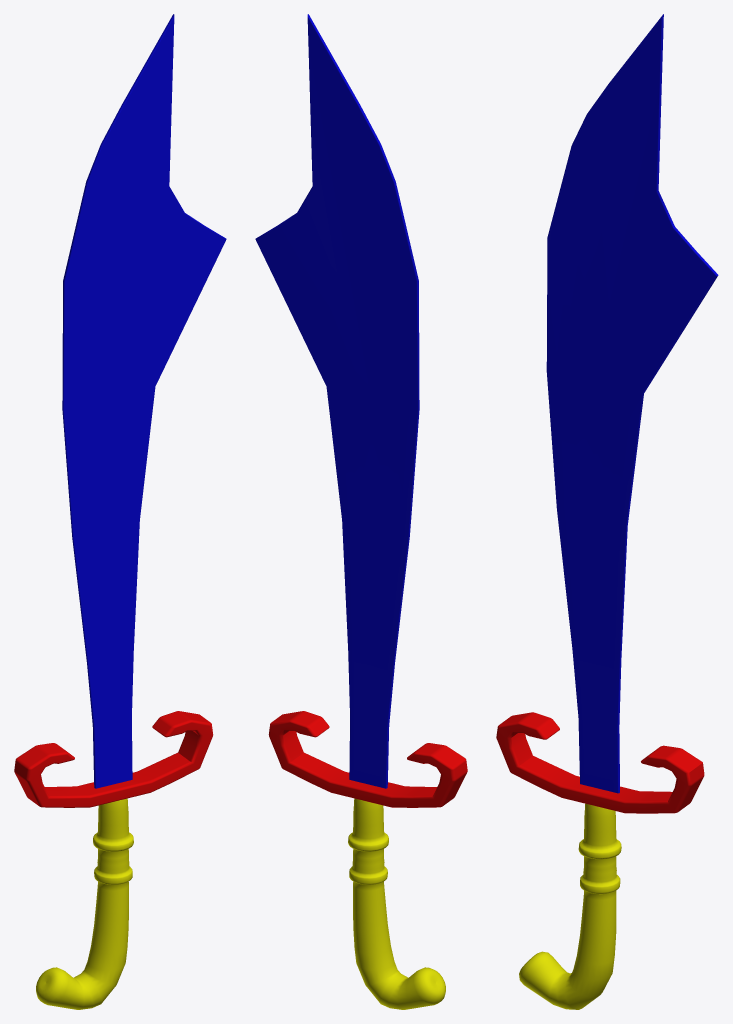
File: Pirate_Sword_Variation.fbx
The picture shows the model from 3 angles, left to right: view 1: azimuth 30°, elevation 25°; view 2: azimuth 150°, elevation 25°; view 3: azimuth 330°, elevation 25°; orthographic projection. The views are drawn at different scales.
Visible parts, largest first — view 1: Pirate_Sword_Variation; view 2: Pirate_Sword_Variation; view 3: Pirate_Sword_Variation.
Part boxes in pixels (x1=…): Pirate_Sword_Variation: x1=14, y1=14, x2=226, y2=1009; Pirate_Sword_Variation: x1=255, y1=14, x2=467, y2=1009; Pirate_Sword_Variation: x1=496, y1=14, x2=718, y2=1009.
Bounding box in the file's own units: 0.2681 × 1.21 × 0.0466.
